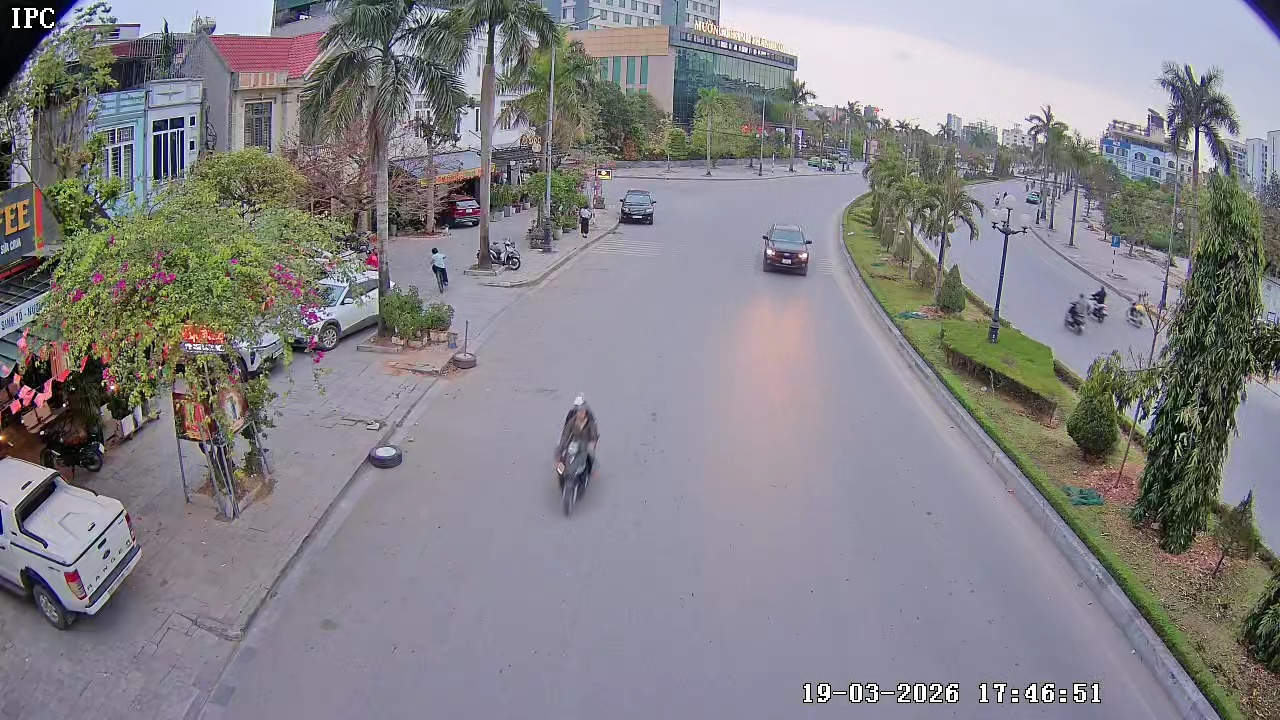car: (0, 479, 142, 629), (759, 219, 813, 278), (617, 187, 658, 225)
motorbike: (551, 394, 604, 516)
